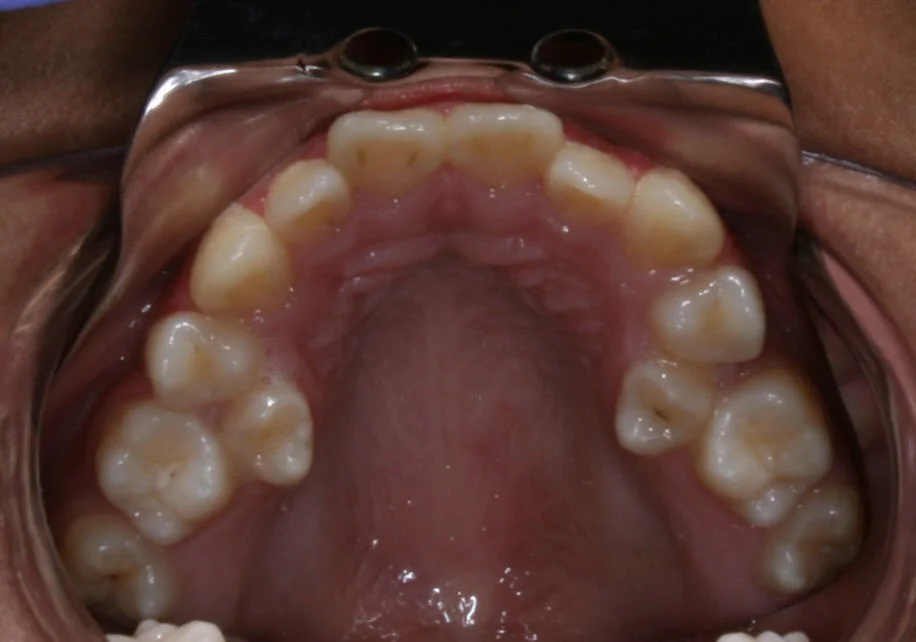UL1BC_healthy: (655, 275, 771, 363)
UL1M_healthy: (779, 500, 862, 578)
UL2BC_healthy: (708, 380, 831, 511)
ULCI_healthy: (442, 105, 559, 191)
ULC_healthy: (636, 174, 725, 270)
ULLI_healthy: (550, 146, 633, 234)
UR1BC_healthy: (145, 317, 269, 398)
UR1M_healthy: (77, 527, 172, 615)
UR2BC_healthy: (96, 414, 229, 533)
URCI_healthy: (331, 107, 439, 187)
URC_healthy: (201, 213, 292, 306)
URLI_healthy: (271, 165, 349, 236)
